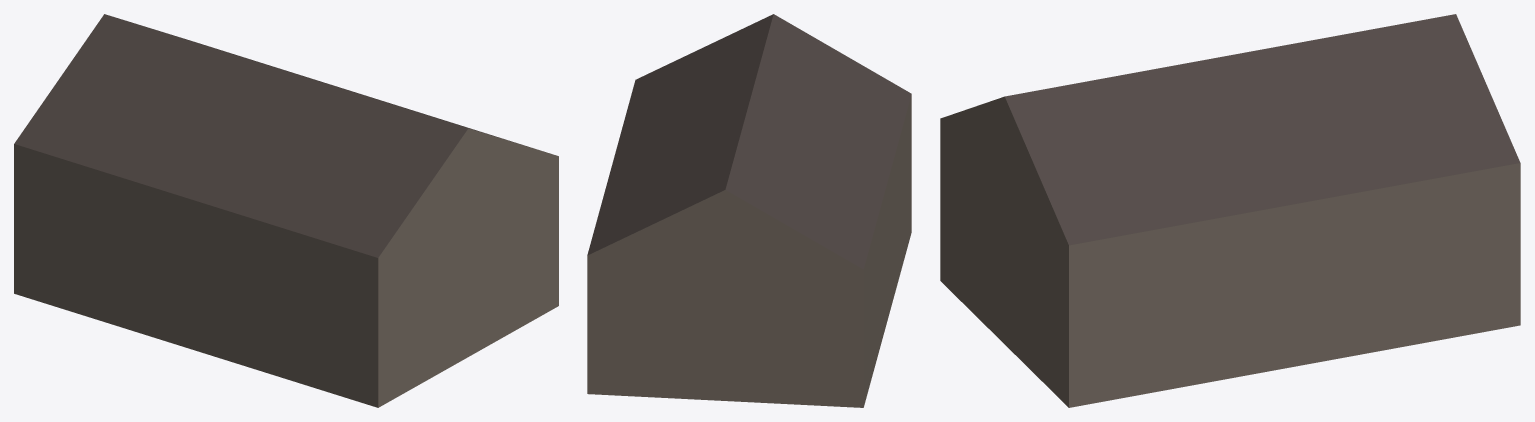
3 views of the same model, side by side, from view 1: azimuth 30°, elevation 25°; view 2: azimuth 150°, elevation 25°; view 3: azimuth 270°, elevation 25° (orthographic). The views are drawn at different scales.
Parts seen in each view (by area): view 1: HP-w1200774745; view 2: HP-w1200774745; view 3: HP-w1200774745.
Part boxes in pixels (<box>): HP-w1200774745: <box>14,14,558,407</box>; HP-w1200774745: <box>587,14,911,407</box>; HP-w1200774745: <box>940,14,1520,407</box>.
Bounding box in the file's own units: 16.59 × 9.16 × 19.41.
